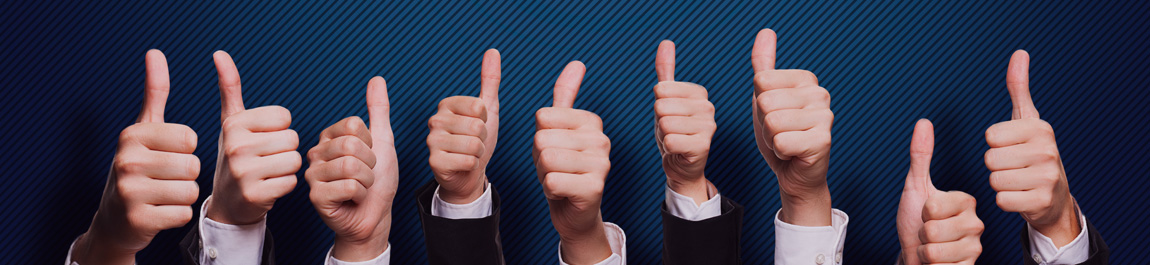thumbsup: (116, 48, 201, 232), (212, 48, 302, 202), (984, 48, 1061, 210), (305, 74, 394, 212), (906, 117, 984, 265), (533, 59, 612, 201), (751, 28, 834, 159), (425, 48, 501, 177), (652, 39, 720, 155)
